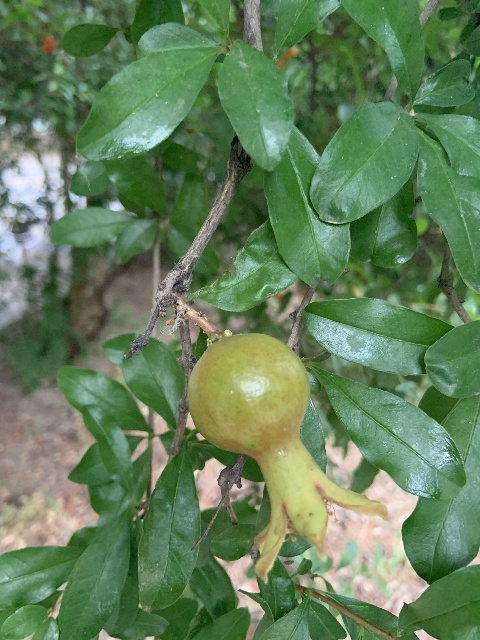mid-growth: (187, 334, 388, 584)
